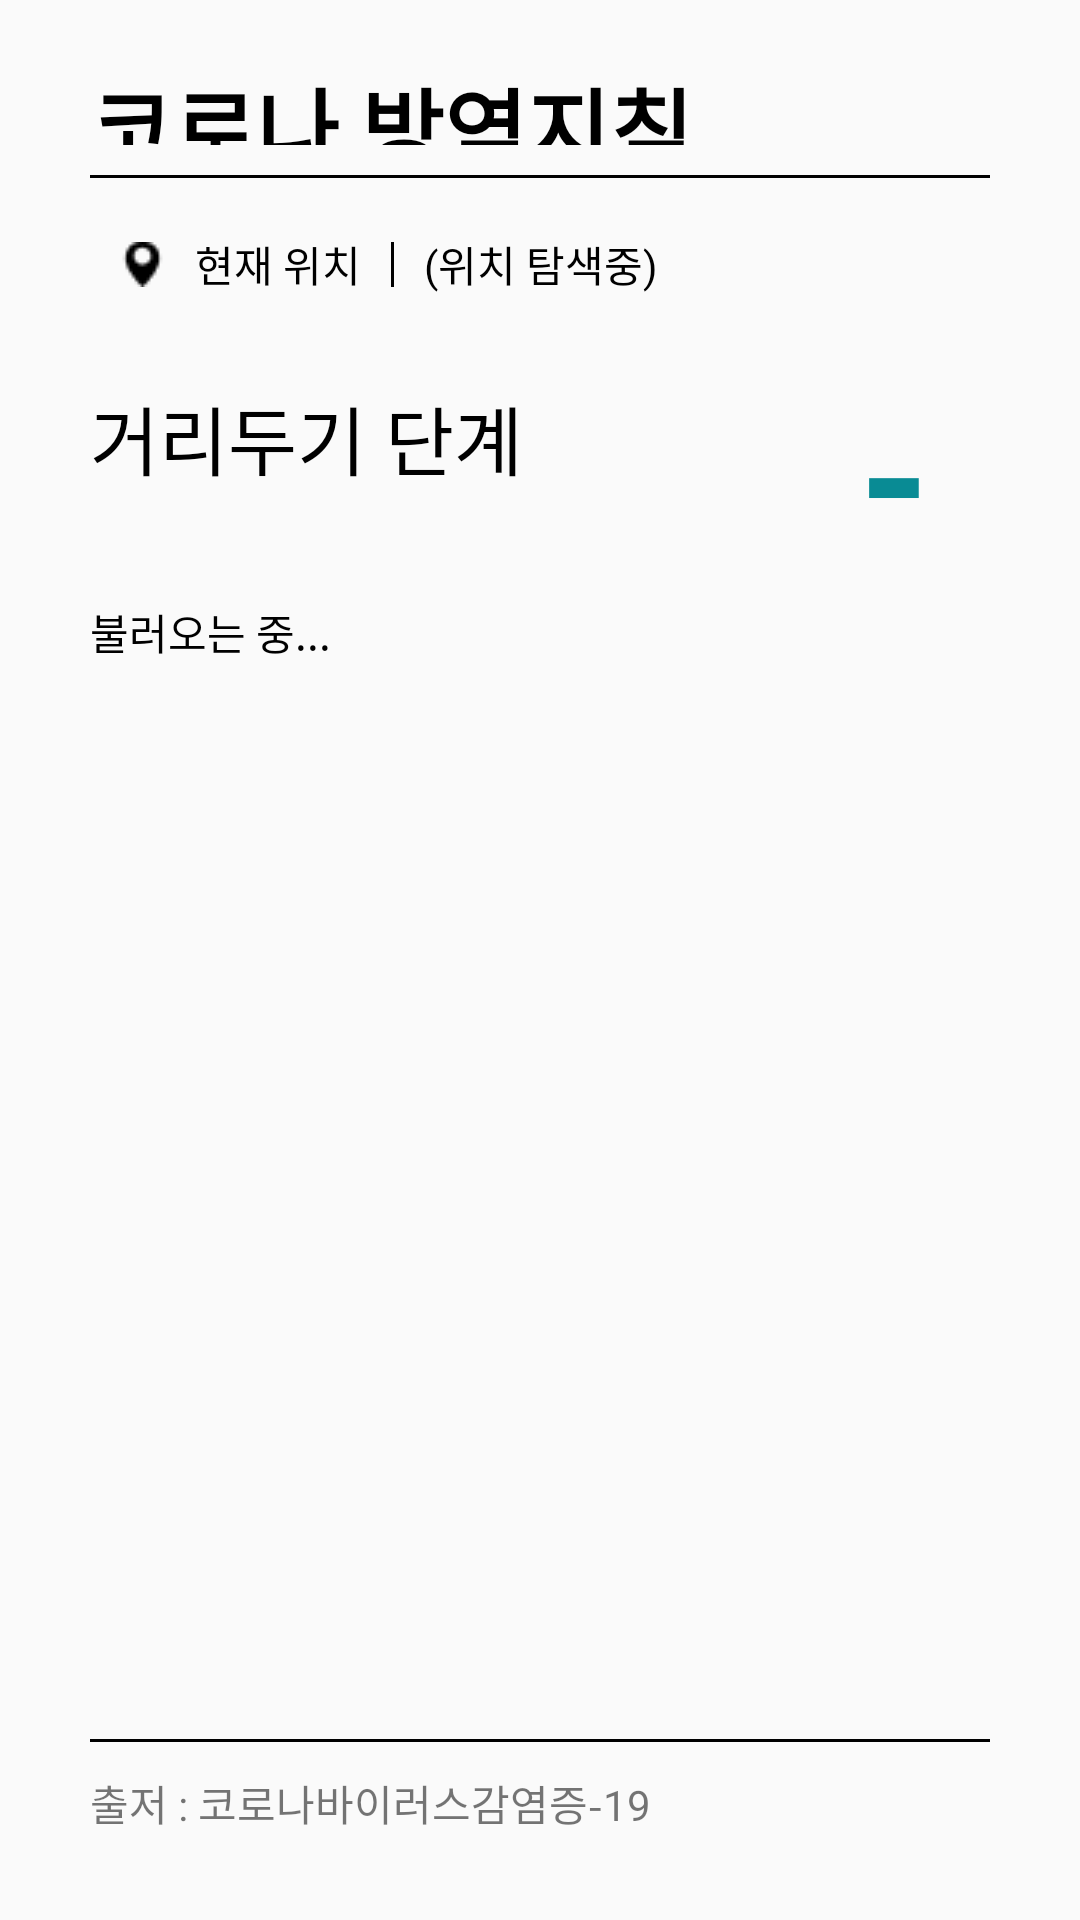

Icon click points for this 1080w x 1920h phone screenshot, format [x,y]:
location: [142,264]
